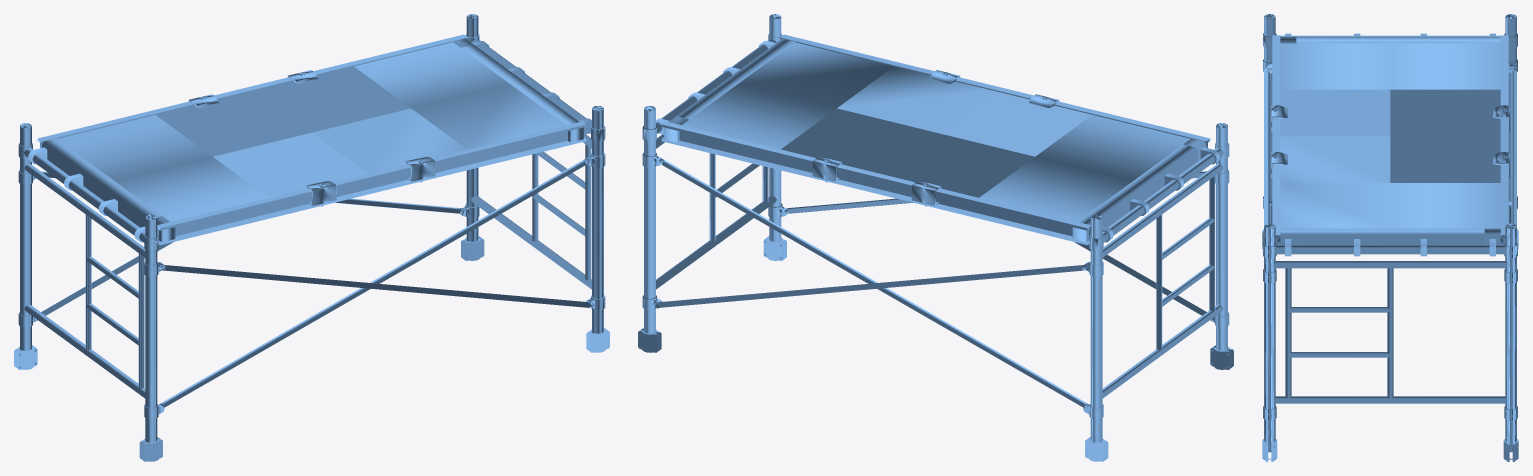
Rendered from uee_lawless_prop_scaffold_mid_01.glb.
3 renders of one model, left to right at view 1: azimuth 30°, elevation 25°; view 2: azimuth 150°, elevation 25°; view 3: azimuth 270°, elevation 25°, orthographic. The views are drawn at different scales.
Size of the model in its own units: 4.04 by 2 by 2.
